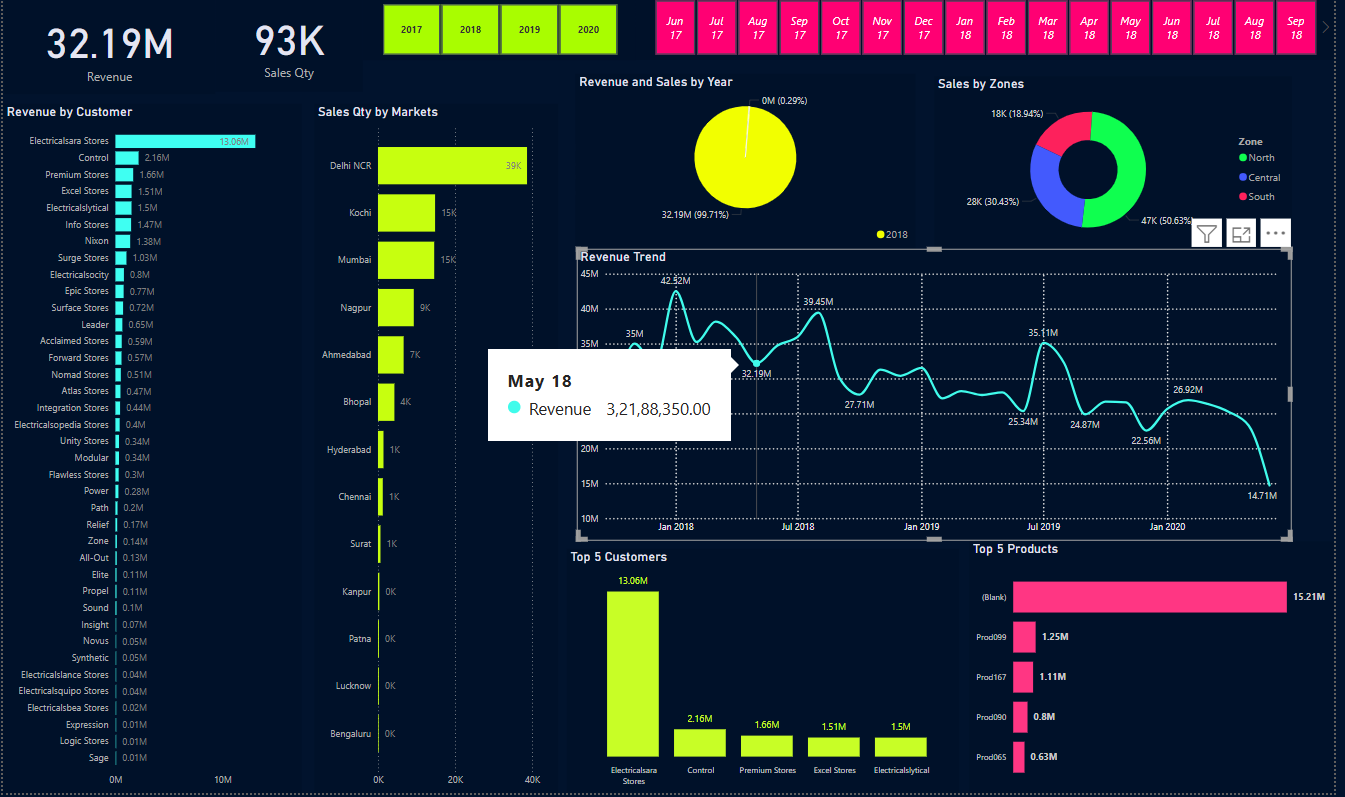

Layout of this report page (visuals, bound fields, positions):
{"tool":"powerbi","page":{"name":"Dashboard","canvas":[1750,1050],"ordinal":0},"visuals":[{"type":"card","fields":{"Values":["BaseMeasures.Revenue"]},"box":[1.6,4.8,277.5,125.8],"z":0},{"type":"card","fields":{"Values":["BaseMeasures.Sales Qty"]},"box":[279.1,0,193.6,127.5],"z":1000},{"type":"barChart","title":"Revenue by Customer","fields":{"Category":["sales customers.custmer_name"],"Y":["BaseMeasures.Revenue"]},"box":[0,143,392.8,907.3],"z":2000},{"type":"barChart","title":"Sales Qty by Markets","fields":{"Category":["sales markets.markets_name"],"Y":["BaseMeasures.Sales Qty"]},"box":[409.3,143,320.5,907.3],"z":3000},{"type":"donutChart","title":"Sales by Zones","fields":{"Y":["BaseMeasures.Sales Qty"],"Category":["sales markets.zone"]},"box":[1224.6,106.8,470.1,226.8],"z":4000},{"type":"slicer","fields":{"Values":["sales date.year"]},"box":[473.4,4.9,358.3,80.5],"z":5000},{"type":"slicer","title":"Months","fields":{"Values":["sales date.cy_date"]},"box":[831.7,0,918.8,85.5],"z":6000},{"type":"columnChart","title":"Top 5 Customers","fields":{"Category":["sales customers.custmer_name"],"Y":["BaseMeasures.Revenue"]},"box":[741.3,728.2,516.1,320.5],"z":7000},{"type":"pieChart","title":"Revenue and Sales by Year","fields":{"Category":["sales date.year"],"Y":["BaseMeasures.Revenue","BaseMeasures.Sales Qty"]},"box":[752.8,103.6,447.1,230.1],"z":8000},{"type":"barChart","title":"Top 5 Products","fields":{"Y":["BaseMeasures.Revenue"],"Category":["sales products.product_code"]},"box":[1270.6,718.3,480,332],"z":9000},{"type":"lineChart","title":"Revenue Trend","fields":{"Category":["sales date.cy_date"],"Y":["BaseMeasures.Revenue"]},"box":[754.5,333.7,940.2,384.6],"z":10000}]}

Visuals, with their boxes in screenshot pixels (x1, y1, x2, y2), scaled from the page's 1750x1050 canvas onto the 1345x797 screenshot:
card - BaseMeasures.Revenue: left=1, top=4, right=215, bottom=99
card - BaseMeasures.Sales Qty: left=215, top=0, right=363, bottom=97
"Revenue by Customer" barChart: left=0, top=109, right=302, bottom=796
"Sales Qty by Markets" barChart: left=315, top=109, right=561, bottom=796
"Sales by Zones" donutChart: left=941, top=81, right=1302, bottom=253
slicer - sales date.year: left=364, top=4, right=639, bottom=65
"Months" slicer: left=639, top=0, right=1344, bottom=65
"Top 5 Customers" columnChart: left=570, top=553, right=966, bottom=796
"Revenue and Sales by Year" pieChart: left=579, top=79, right=922, bottom=253
"Top 5 Products" barChart: left=977, top=545, right=1344, bottom=796
"Revenue Trend" lineChart: left=580, top=253, right=1302, bottom=545
